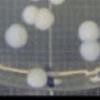white: (4, 23, 28, 49), (27, 67, 49, 89), (35, 8, 56, 31), (78, 20, 100, 41), (78, 41, 100, 62), (21, 4, 38, 27), (49, 0, 67, 6)
